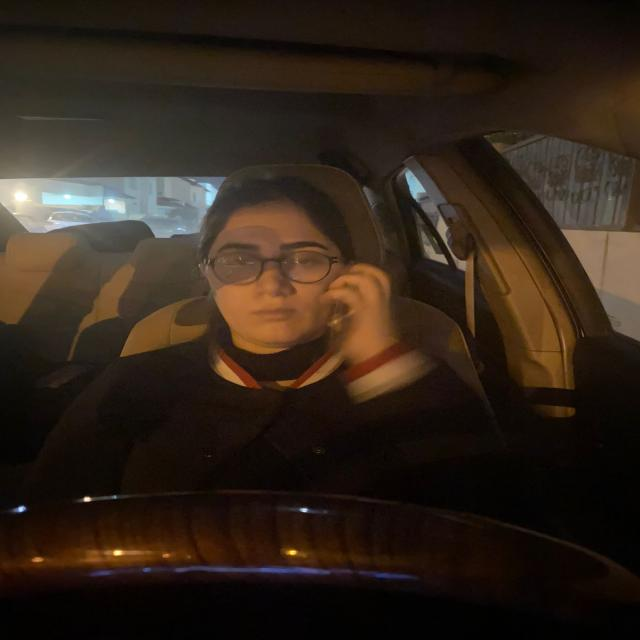mobile: (338, 271, 379, 348)
person: (200, 179, 345, 350)
